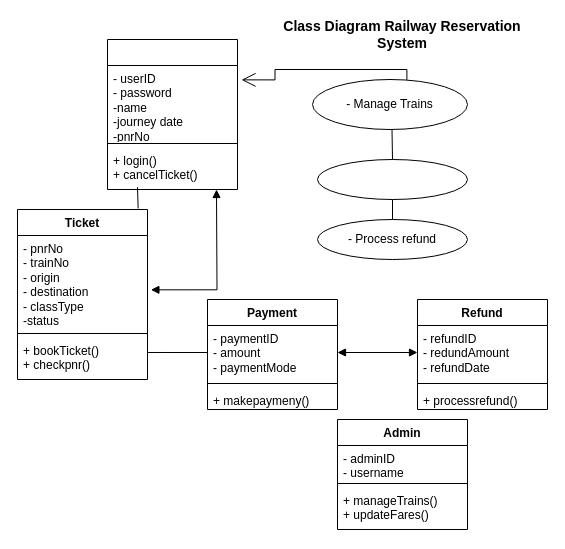
Some shapes in this 565 by 549 pixel diagram are drawn without their labels. Each missing label, with the box of its shape:
-Update Fares: (316, 158, 468, 200)
Passenger: (106, 38, 238, 190)
